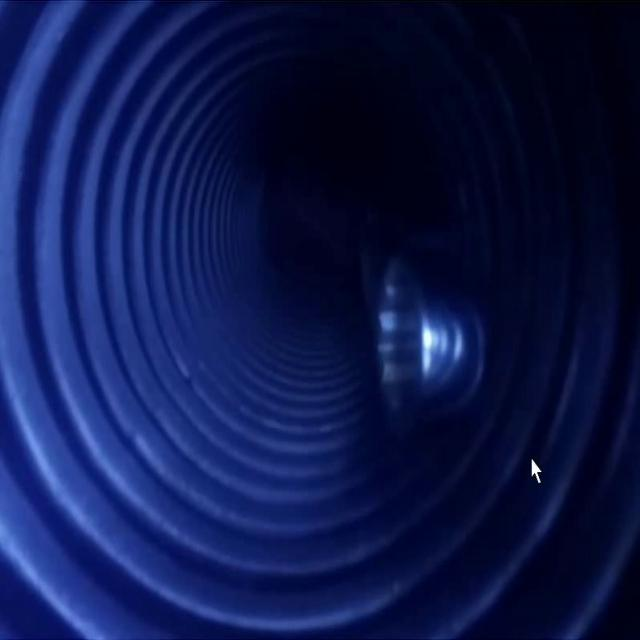metal piece: (371, 244, 487, 420)
